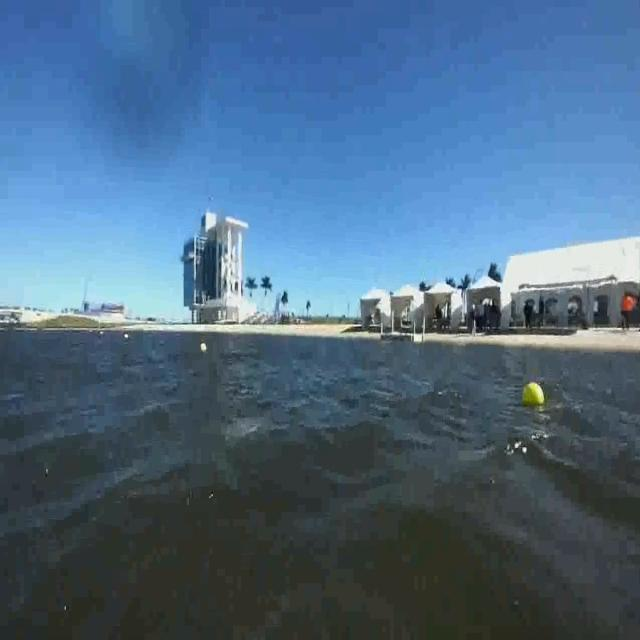yellow-buoy: (524, 381, 548, 407)
